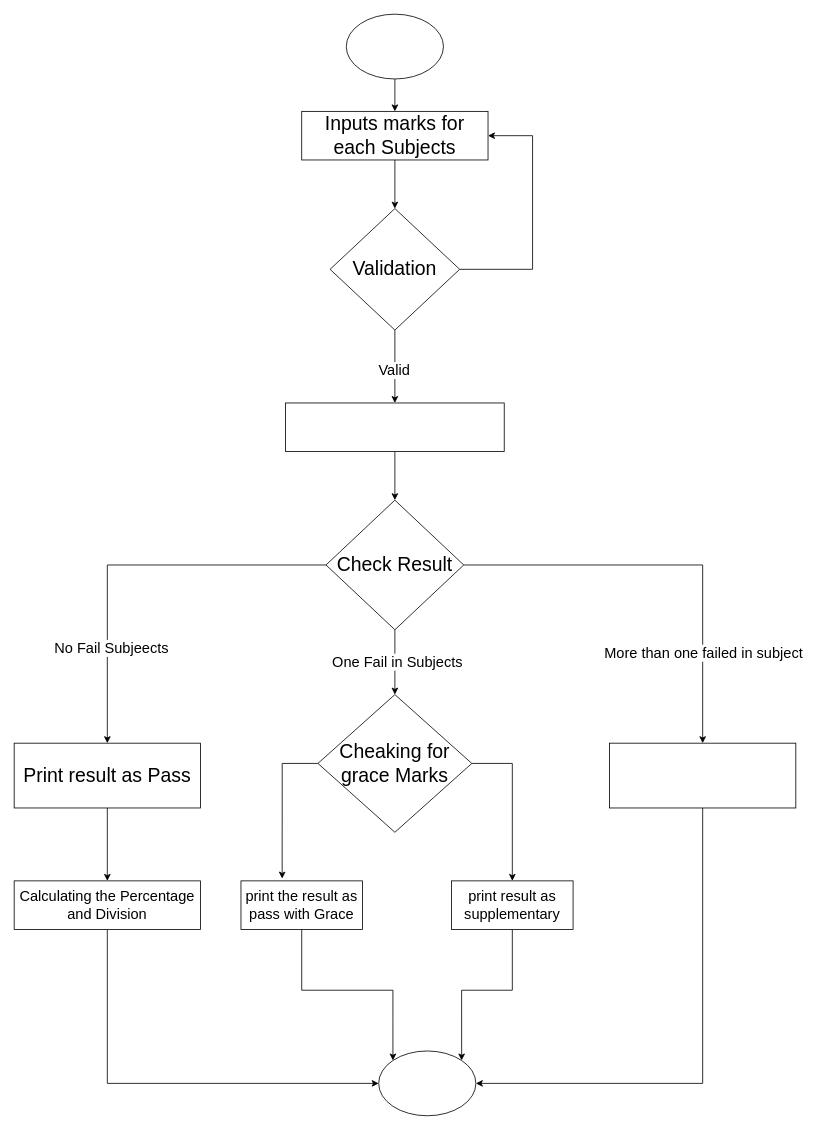
Some shapes in this 816 by 1130 pixel diagram are drawn without their labels. Each missing label, with the centre of its shape:
"End" belongs at (427,1083).
"Print result as Fail" belongs at (702,775).
"start" belongs at (394,46).
"Total Marks of student. Calculate the failed subjects." belongs at (394,427).
